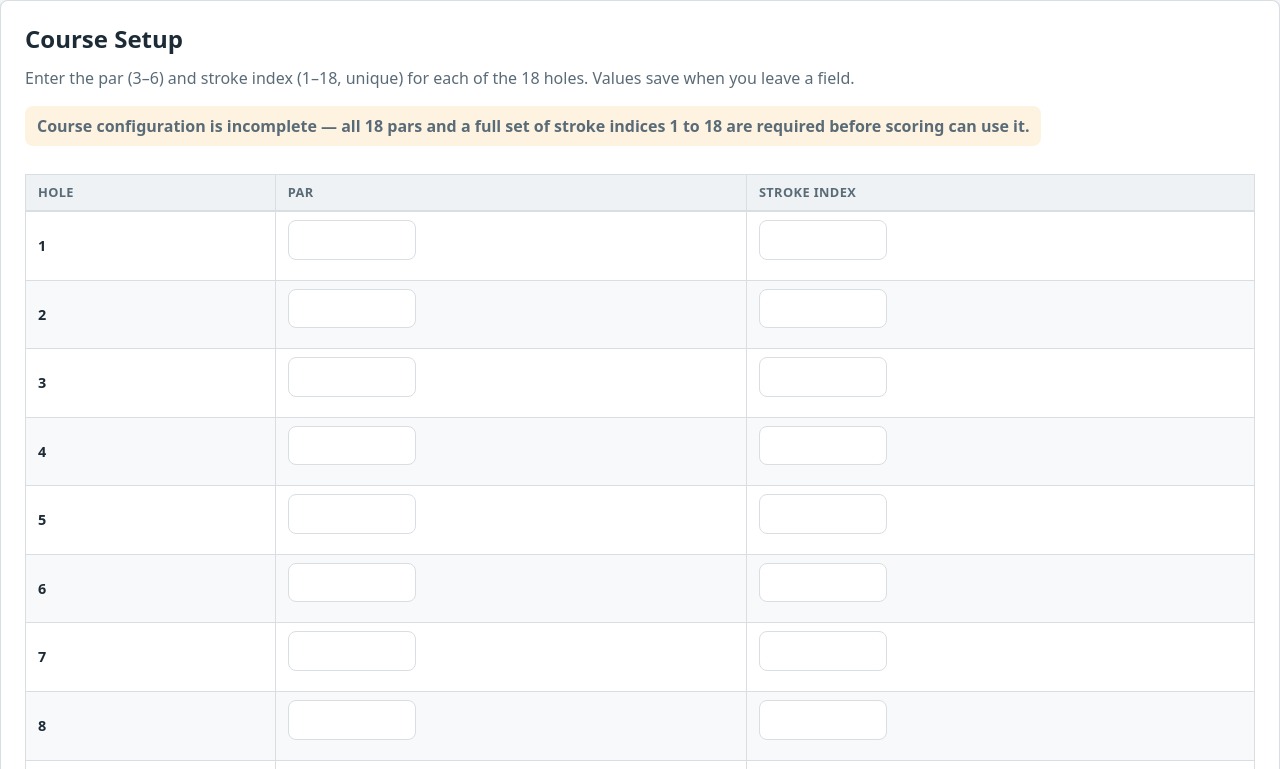
Test: CourseSetupScreen › rejects a non-integer par with the permitted range (1.5)
In the number field named "Par for hole 3": (352, 377) [288,357,416,397], type "3.5"
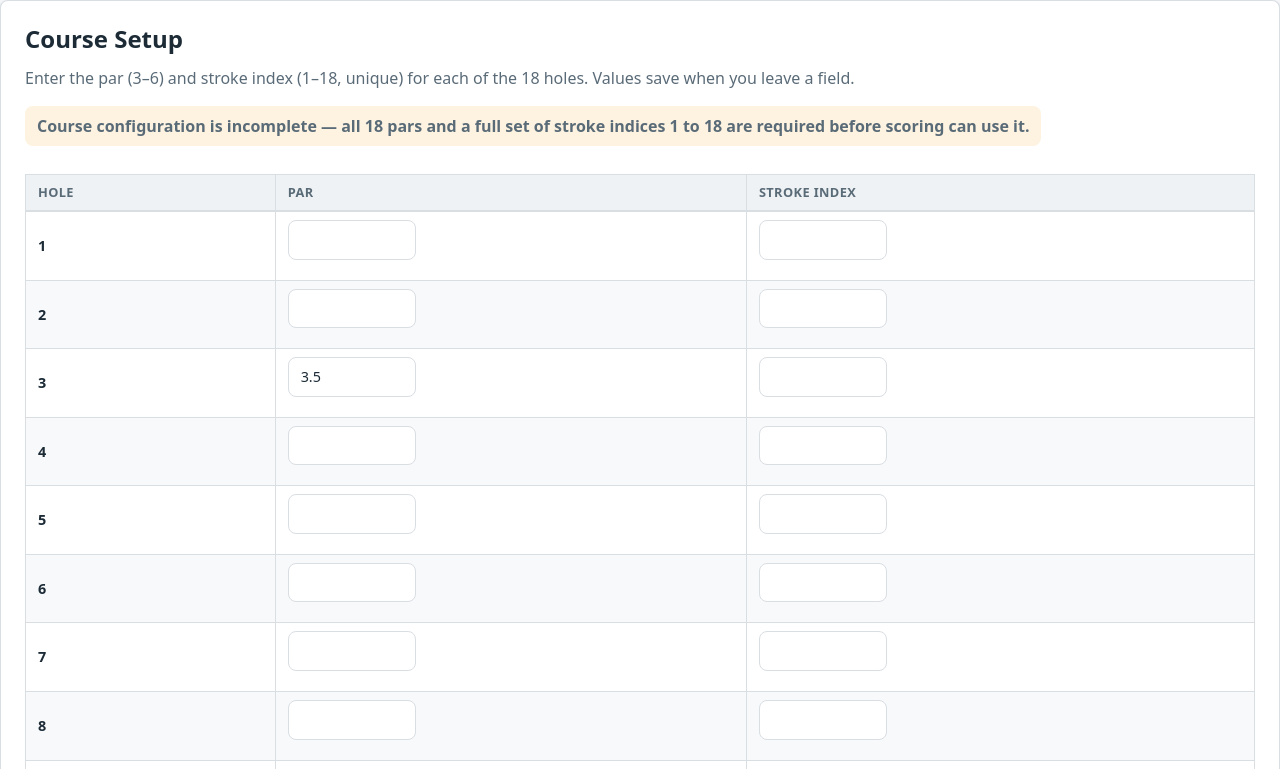
Leave the number field named "Par for hole 3", box [288,357,416,397]
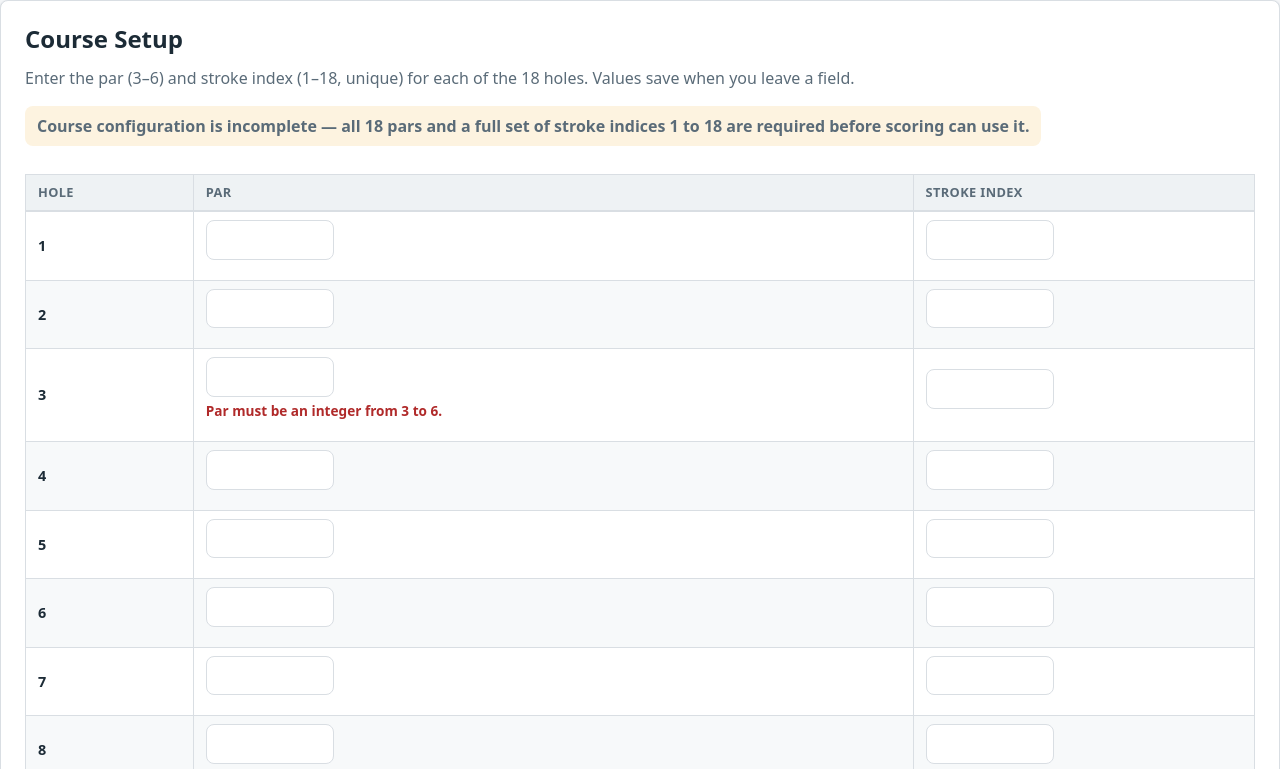
Now the text "Par must be an integer from 3 to 6." is shown, box [206,401,442,420]
